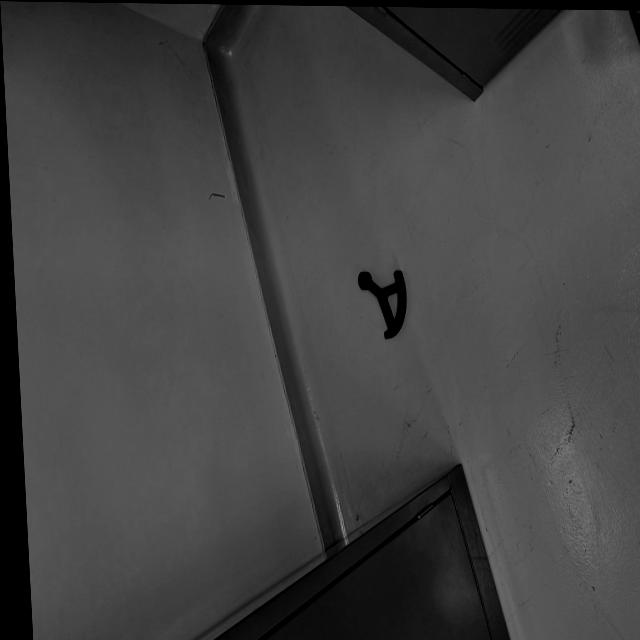haptic: (357, 268, 409, 339)
